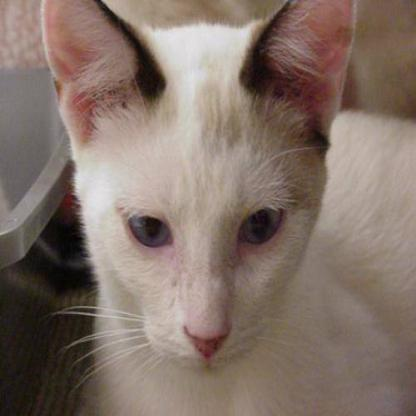cat: (37, 18, 339, 376)
